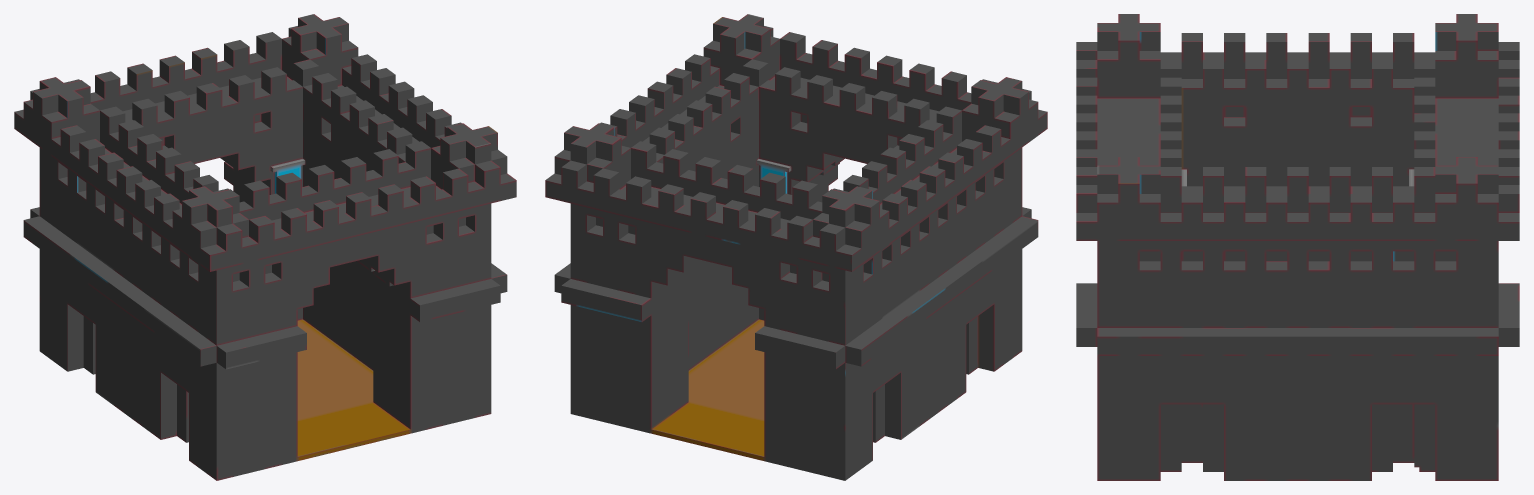
Rendered from castle room_1.fbx.
The picture shows the model from 3 angles, left to right: view 1: azimuth 30°, elevation 25°; view 2: azimuth 150°, elevation 25°; view 3: azimuth 270°, elevation 25°; orthographic projection. The views are drawn at different scales.
Parts seen in each view (by area): view 1: castle room_1.001; view 2: castle room_1.001; view 3: castle room_1.001.
Part boxes in pixels (<box>): castle room_1.001: <box>14,14,516,480</box>; castle room_1.001: <box>545,14,1047,480</box>; castle room_1.001: <box>1076,14,1519,480</box>.
Size of the model in its own units: 7.6 by 6.4 by 8.4.
